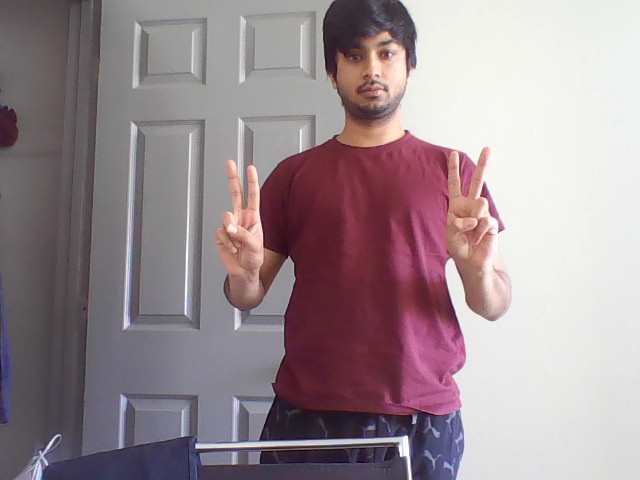two: (212, 152, 270, 235), (441, 141, 500, 214)
